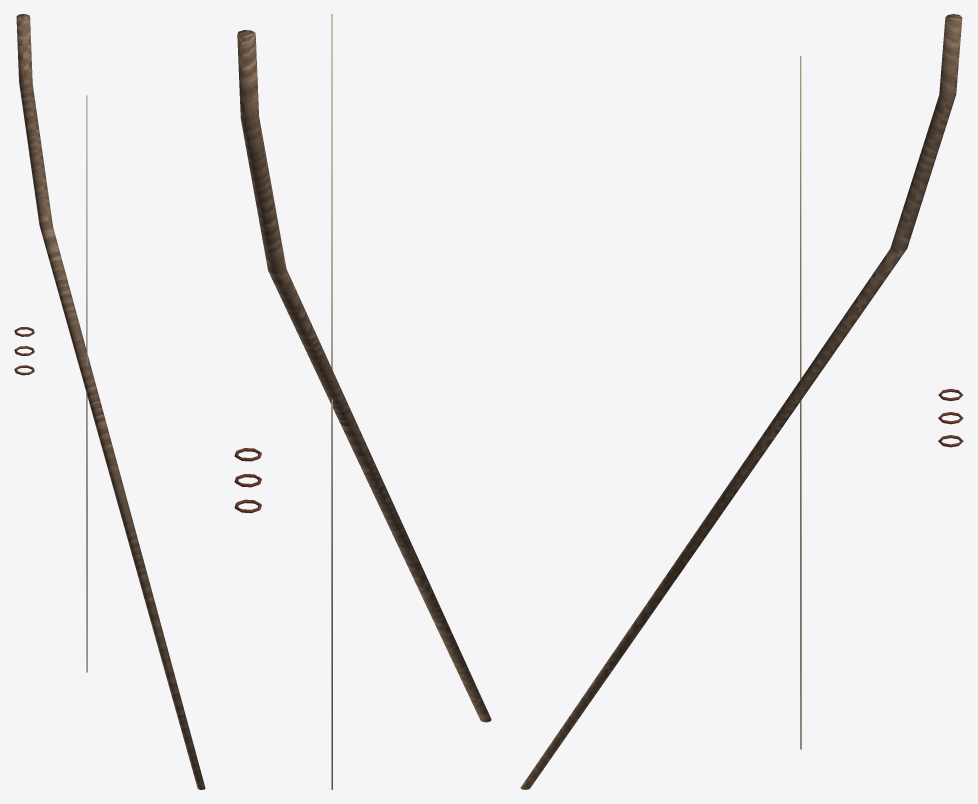
The model's file is recurve_bow.fbx.
3 renders of one model, left to right at view 1: azimuth 30°, elevation 25°; view 2: azimuth 150°, elevation 25°; view 3: azimuth 270°, elevation 25°, orthographic. The views are drawn at different scales.
Visible parts, largest first — view 1: recurve_bow; view 2: recurve_bow; view 3: recurve_bow.
Part boxes in pixels (<box>): recurve_bow: <box>14,14,205,789</box>; recurve_bow: <box>234,14,491,789</box>; recurve_bow: <box>520,14,963,789</box>.
Size of the model in its own units: 0.03 by 1 by 0.5214.
Materials: 3 (2 with a texture image).
